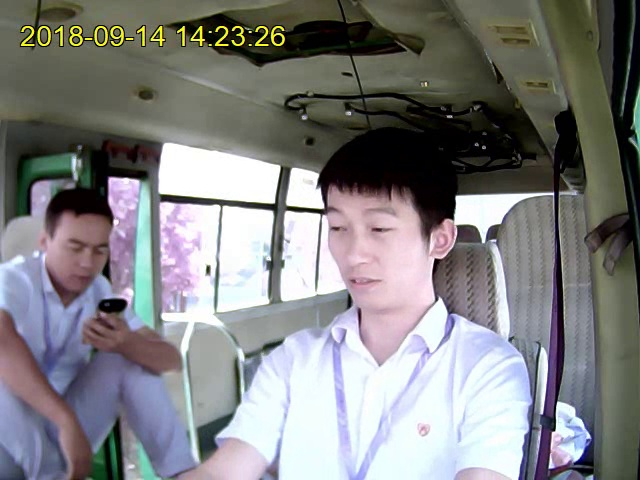closed_mouth: (348, 274, 385, 290)
